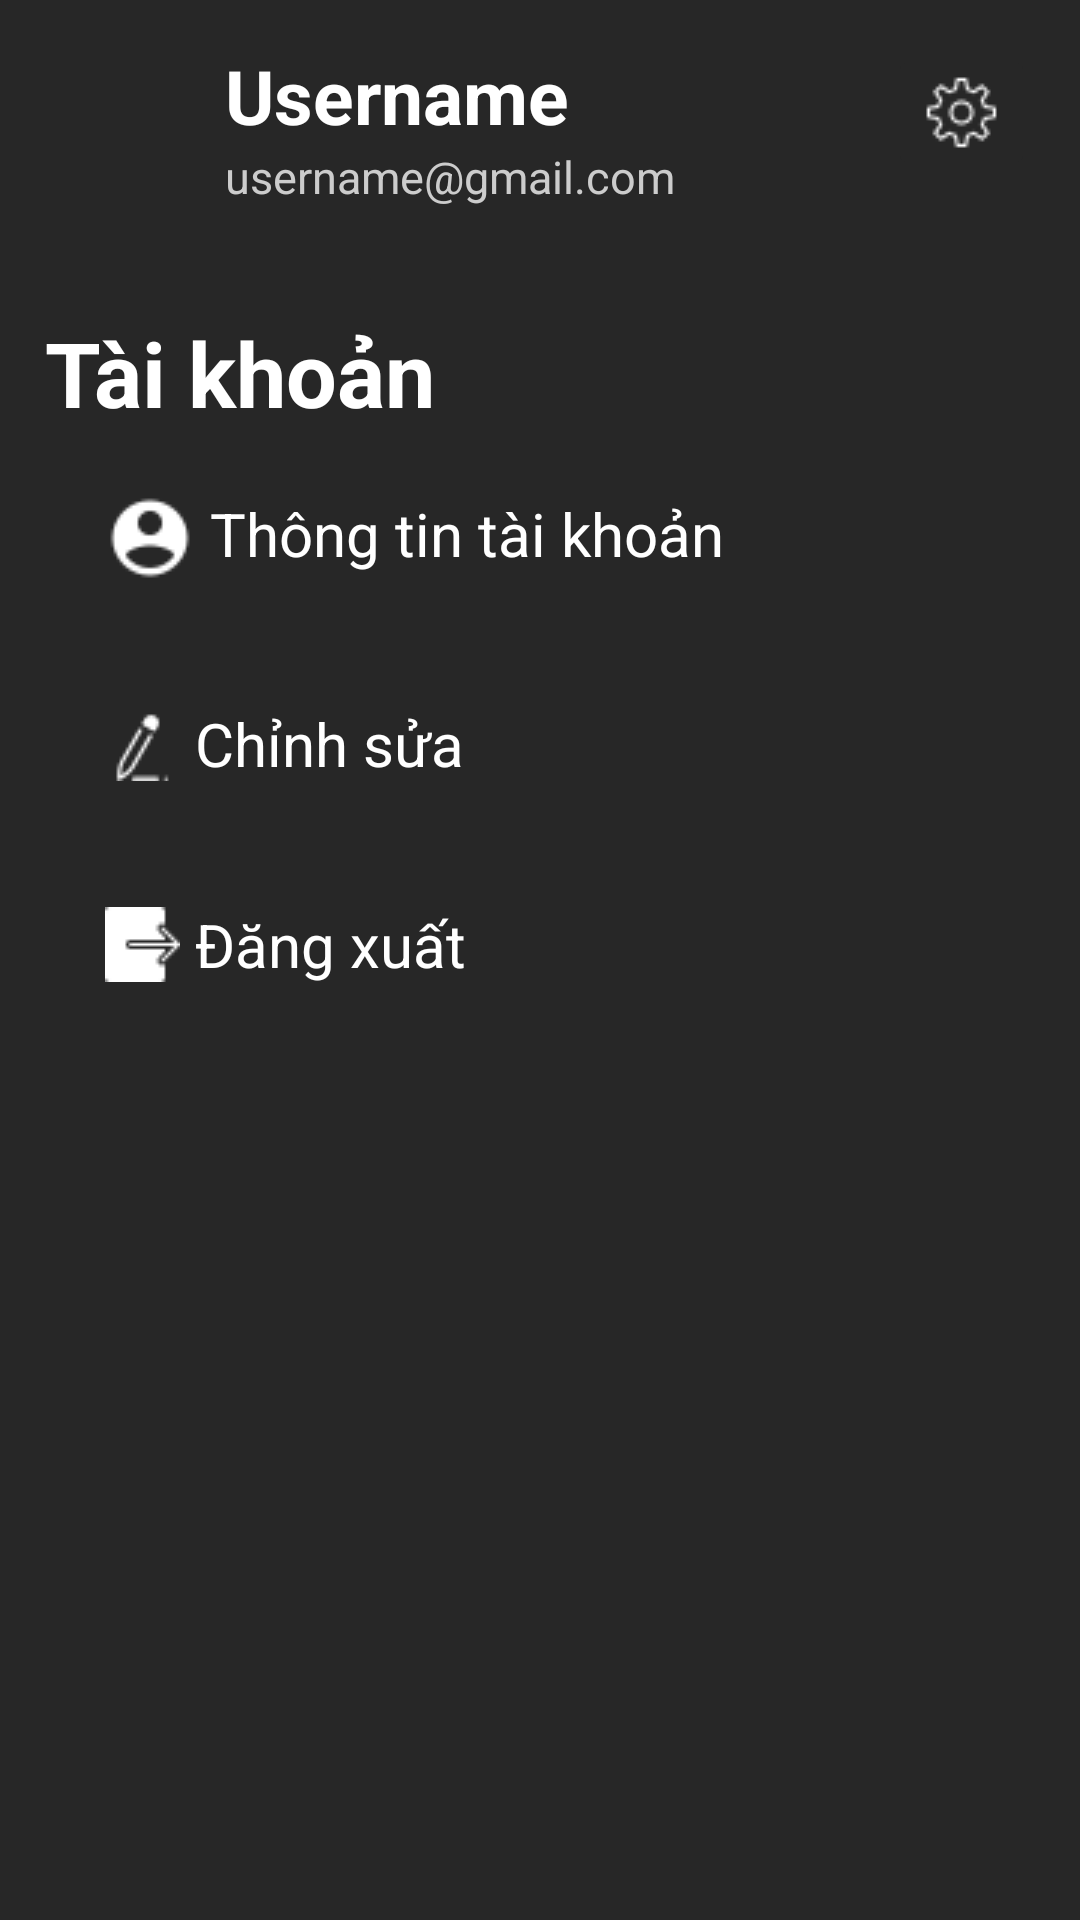

Icon click points for this 1080 × 1920 phone screenshot, format [x,y]:
setting: [961,112]
